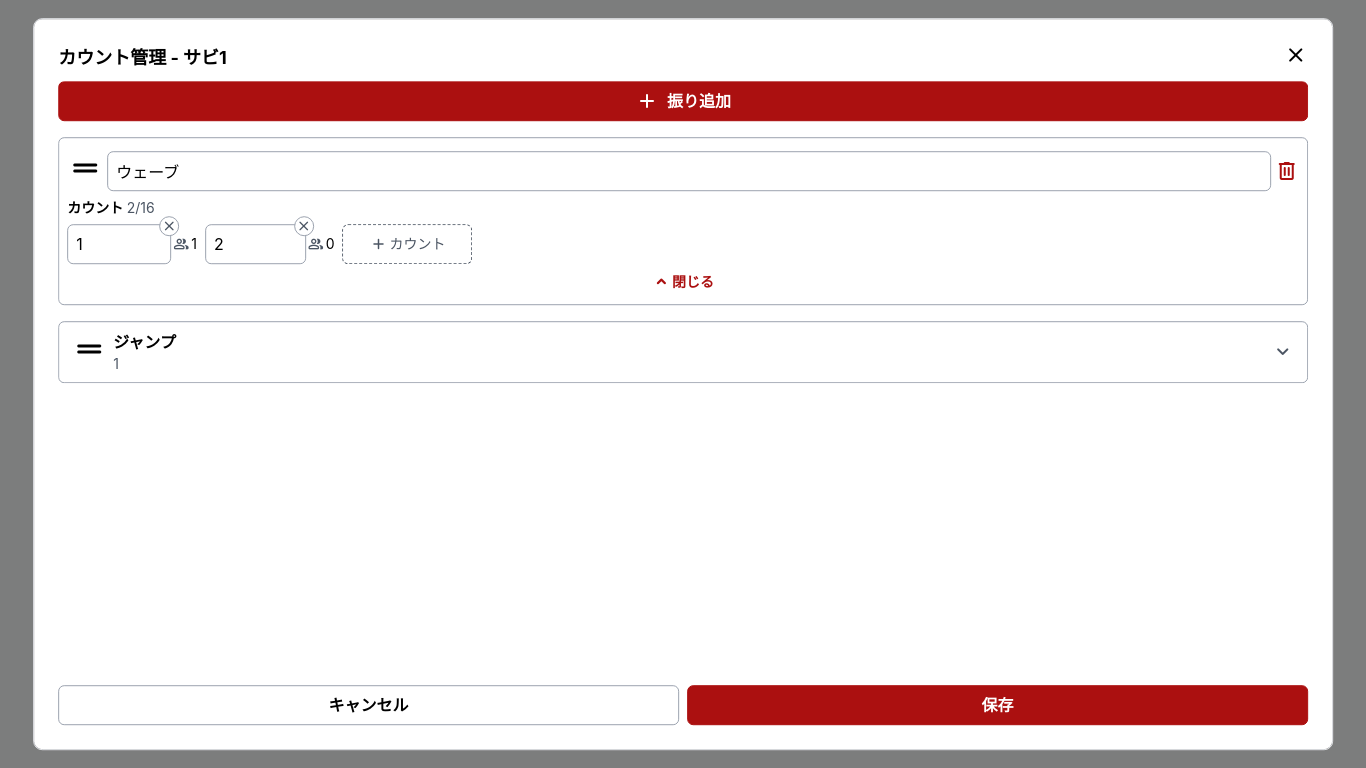
Scenario: ActionManagerDialog count patterns › keeps choosing after the card is closed, and the closed card says why 保存 is off
Click the button "振り追加" at (683, 101), box [58, 81, 1308, 121]
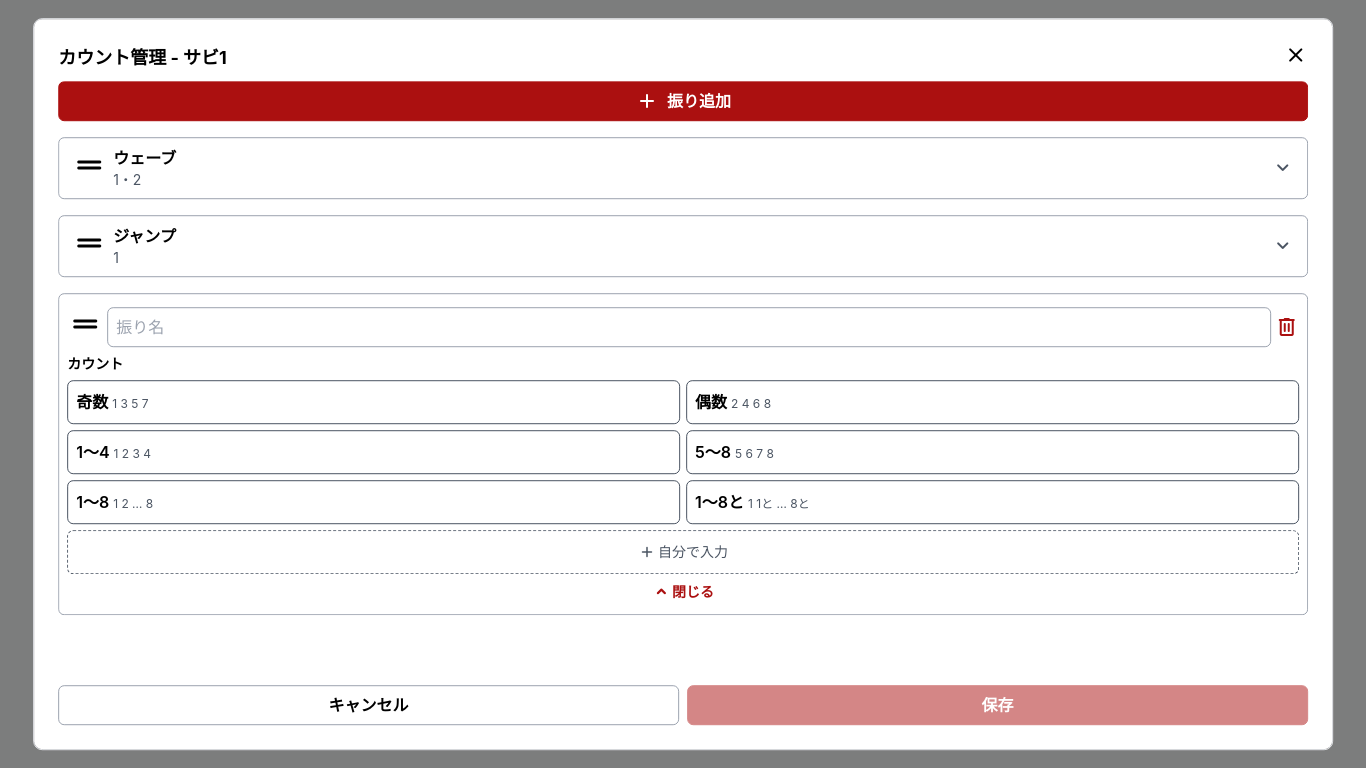
Click the button "ウェーブ 1・2" at (145, 158), box [113, 146, 1295, 190]
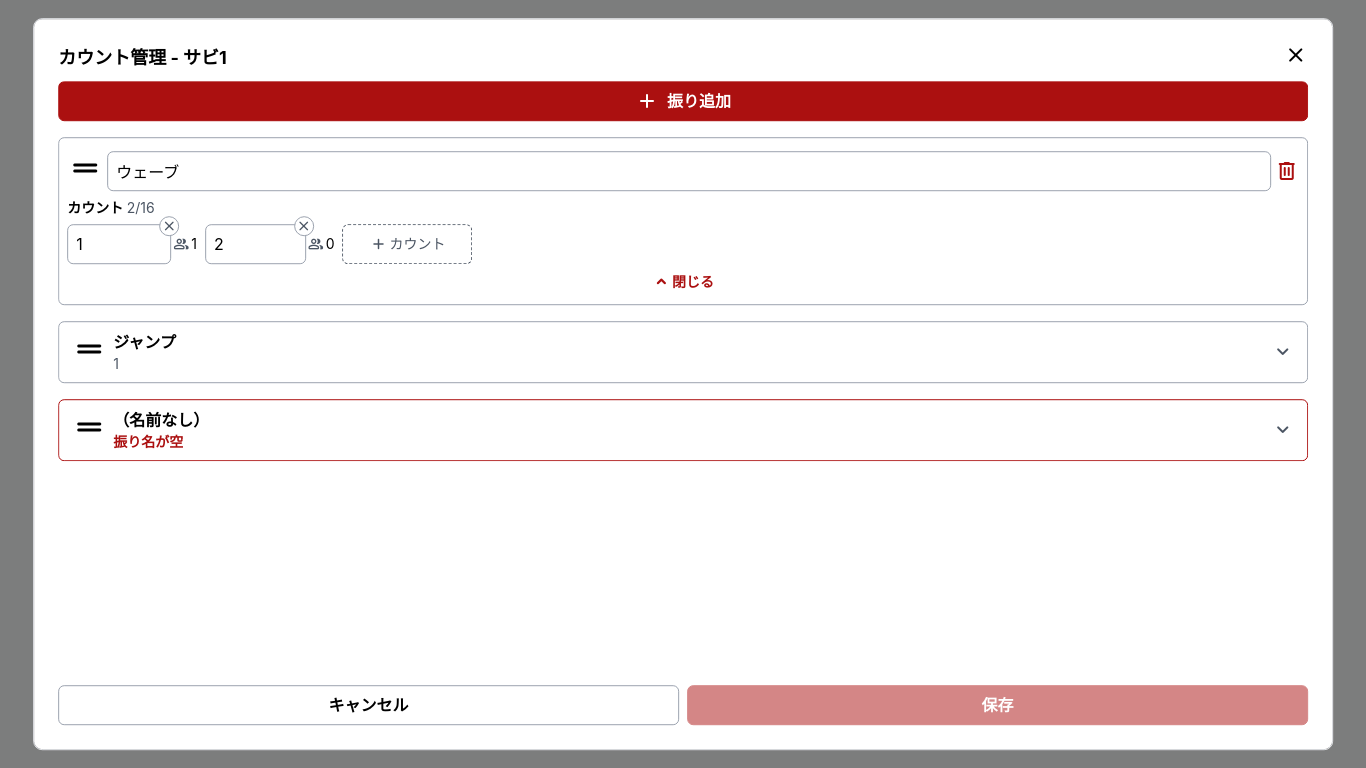
Expected: the text "振り名が空" is shown, [113, 433, 183, 450]
Click the button "（名前なし） 振り名が空" at (161, 420), box [113, 408, 1295, 452]
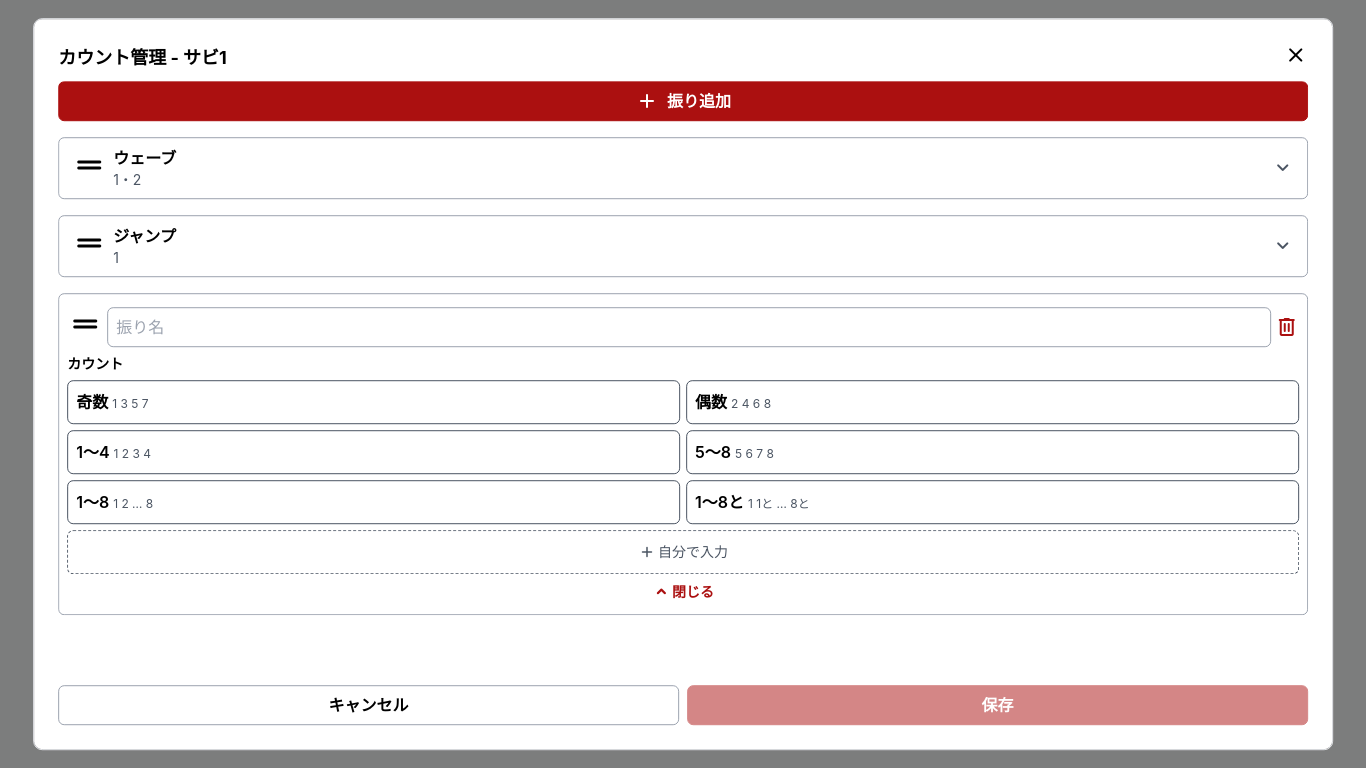
Expected: the button with aria-label "奇数:" is shown, [67, 380, 680, 424]
Type "回転" into the field with placeholder "振り名" at (689, 327), box [107, 307, 1271, 347]
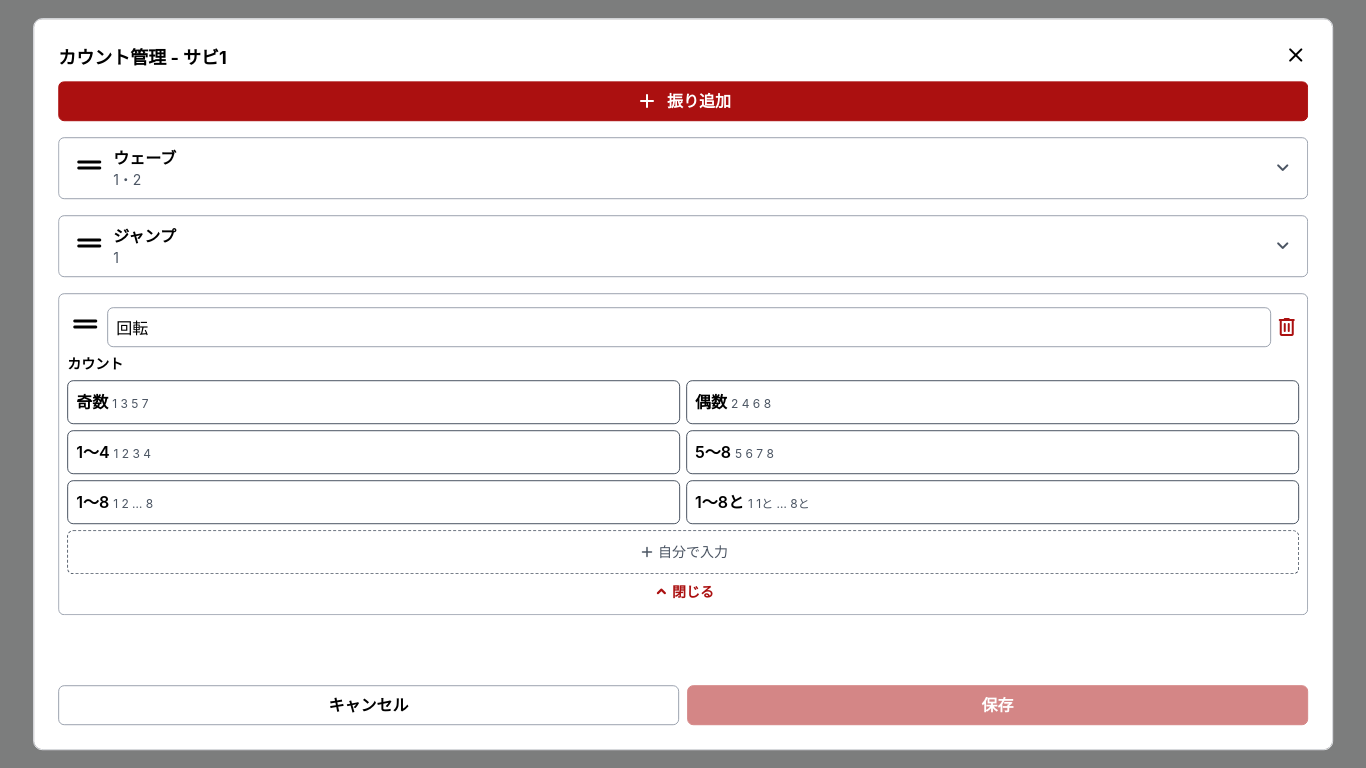
Click the button "ウェーブ 1・2" at (145, 158), box [113, 146, 1295, 190]
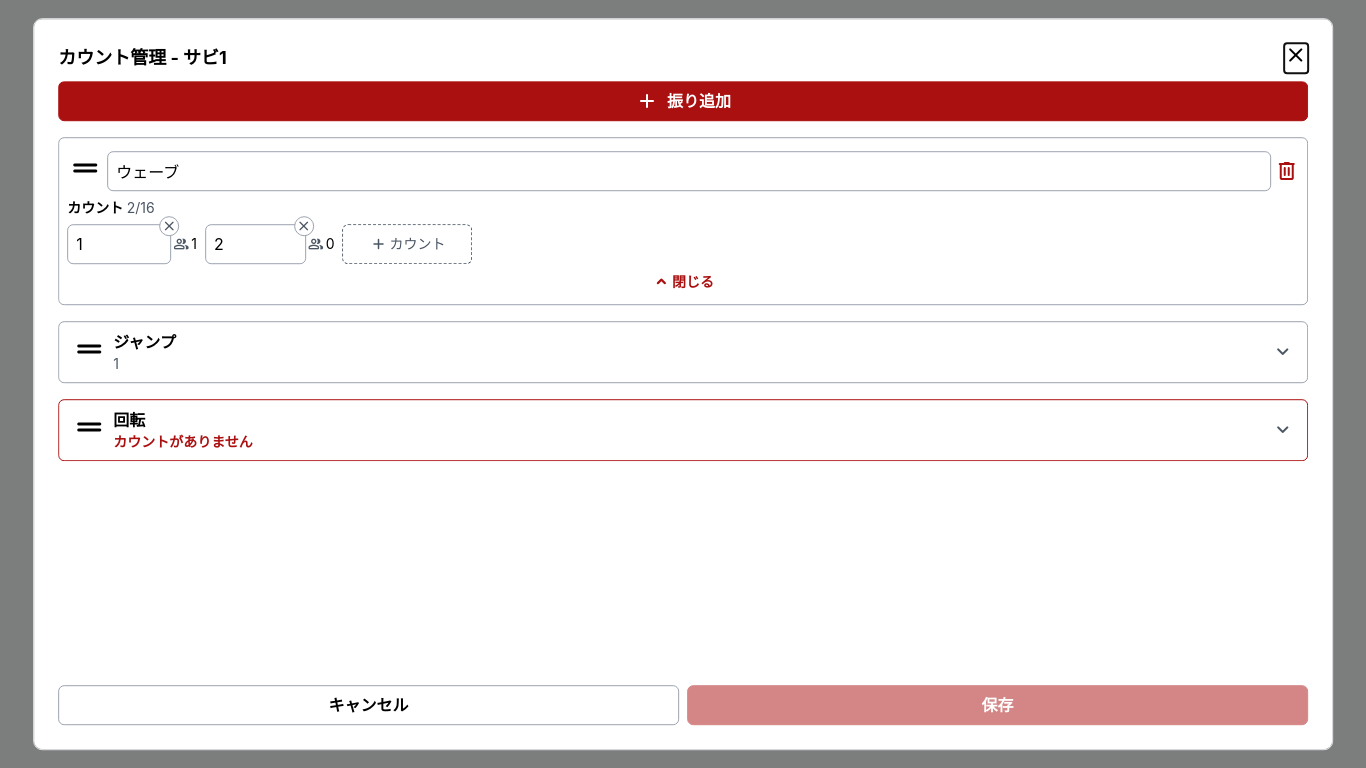
Expected: the text "カウントがありません" is shown, [113, 433, 253, 450]
